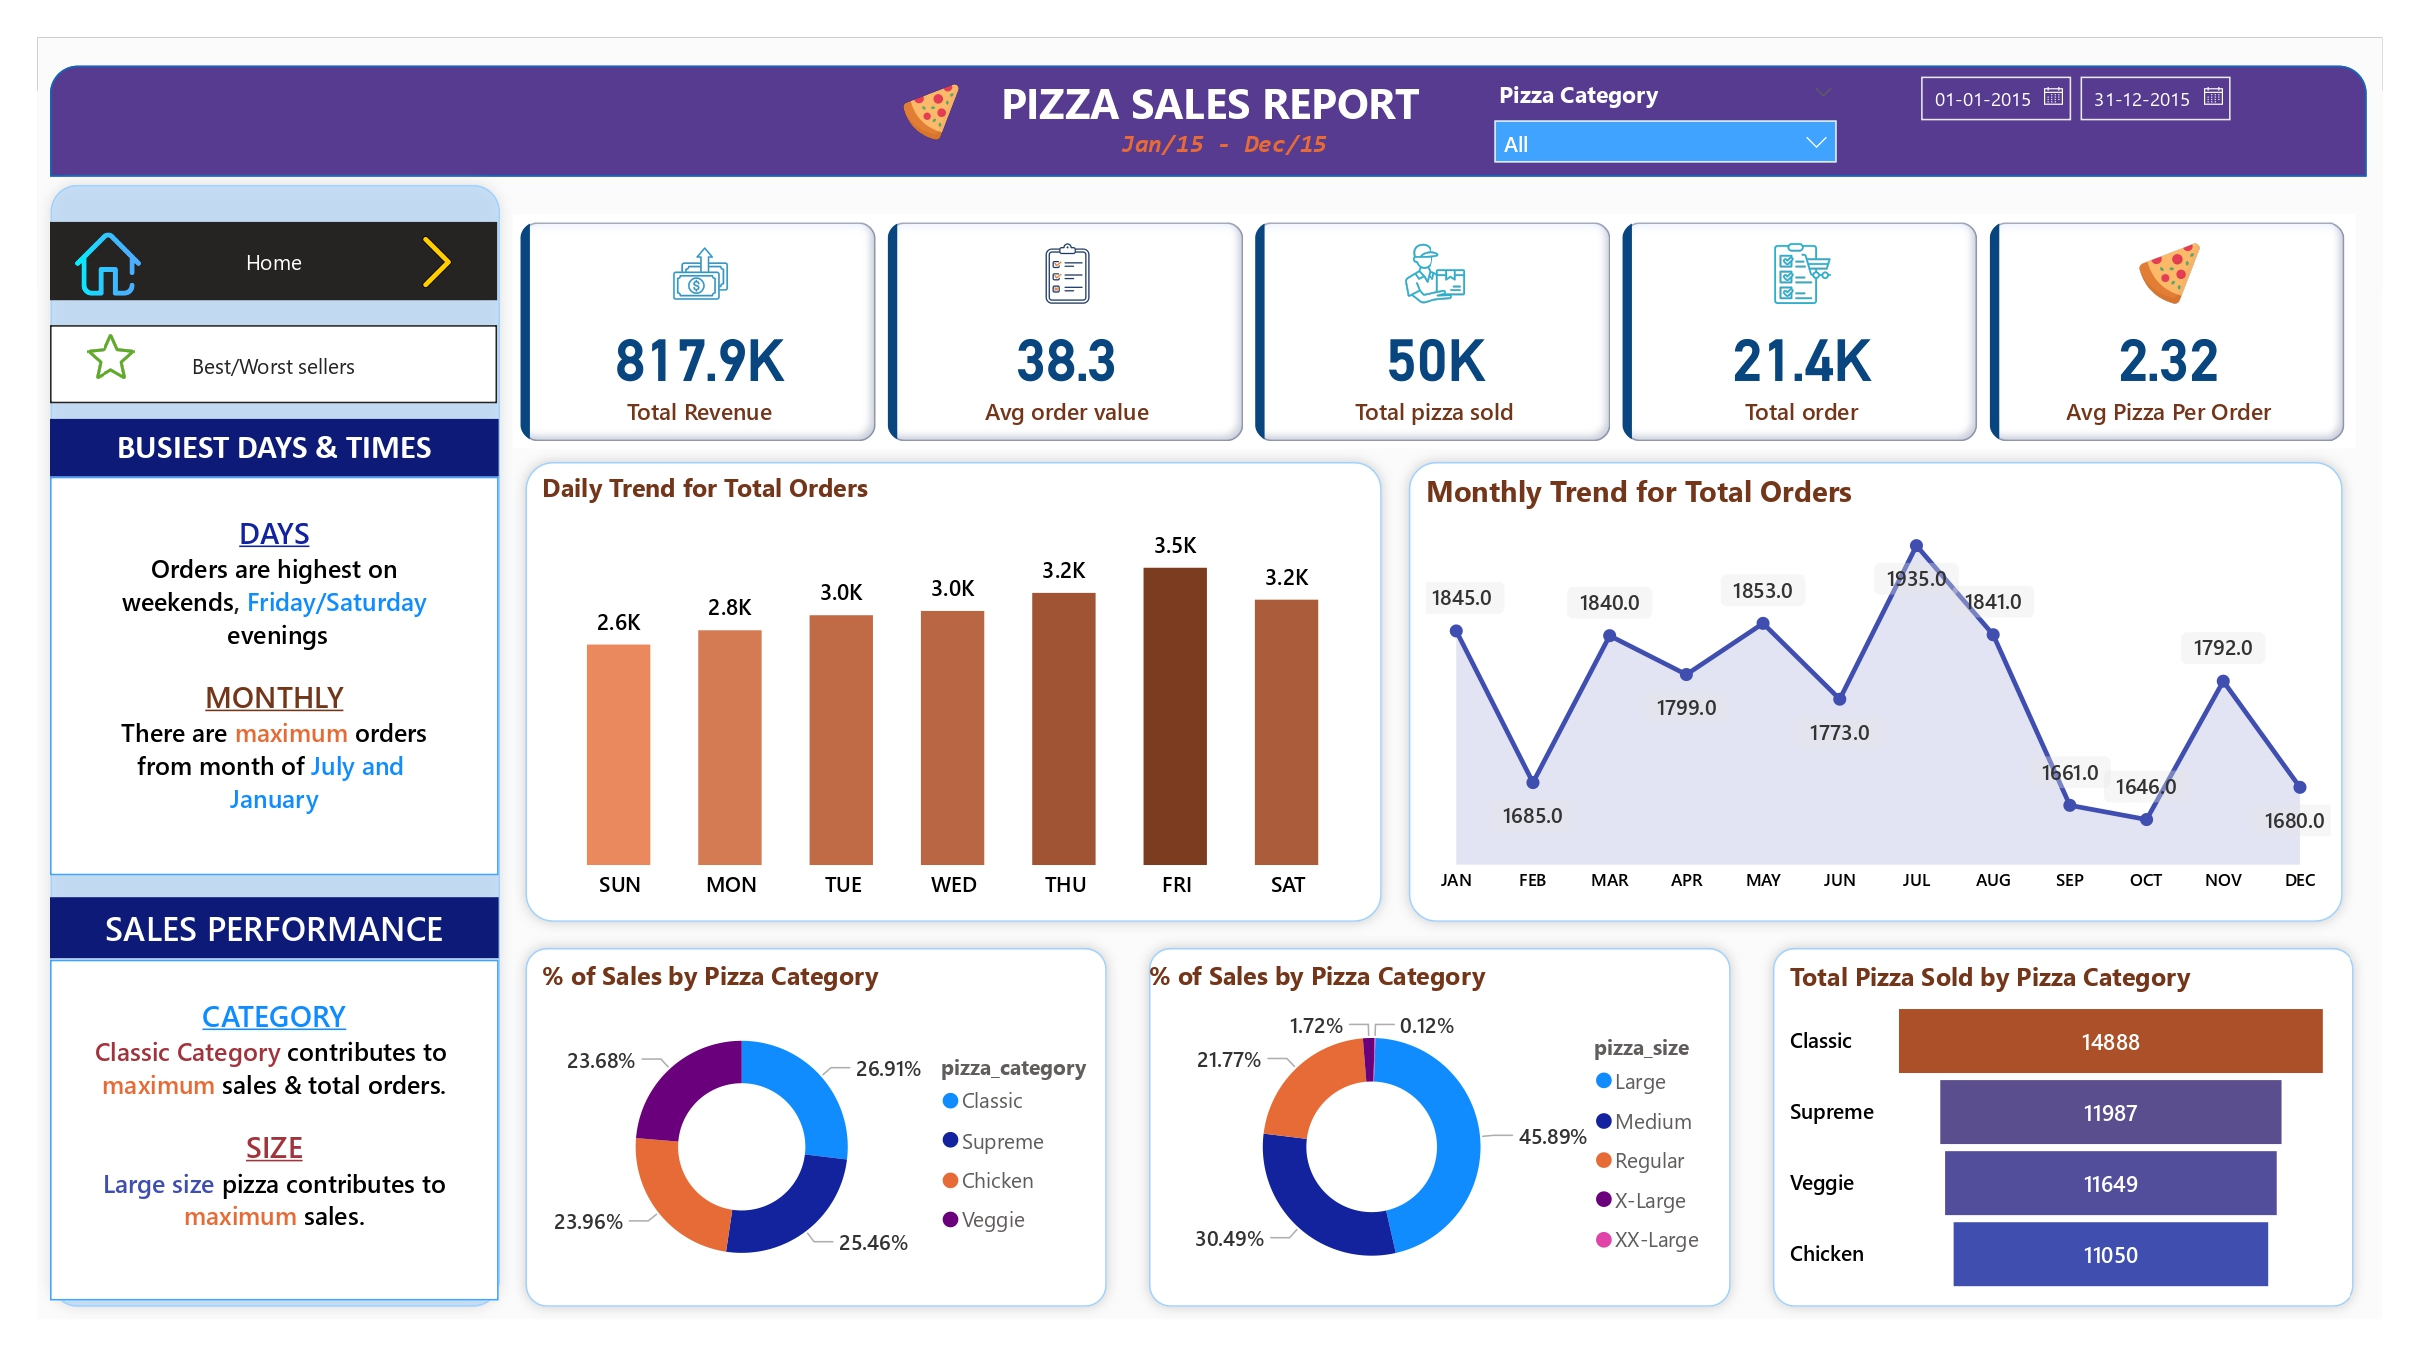

This screenshot's page, from the dashboard's own definition file:
{"tool":"powerbi","page":{"name":"Home","canvas":[1500,820],"ordinal":0},"visuals":[{"type":"cardVisual","fields":{"Data":["pizza_sales pizza_sale.Total Revenue","pizza_sales pizza_sale.Avg order value","pizza_sales pizza_sale.Total pizza sold","pizza_sales pizza_sale.Total order","pizza_sales pizza_sale.Avg Pizza Per Order"]},"box":[304.3,112.9,1178.6,150],"z":0},{"type":"shape","box":[8.4,18.1,1481.8,71],"z":1000},{"type":"textbox","box":[605.8,18.1,288.3,52.9],"z":2000},{"type":"textbox","box":[661.5,52.9,195,34.8],"z":3000},{"type":"image","box":[536.2,23.7,69.6,47.4],"z":4000},{"type":"shape","box":[303.6,263.2,564,310.6],"z":5000},{"type":"columnChart","title":"Daily Trend for Total Orders","fields":{"Category":["pizza_sales pizza_sale.Order Day"],"Y":["pizza_sales pizza_sale.Total order"]},"box":[317.5,277.1,537.6,284.1],"z":6000},{"type":"shape","box":[869,263.2,614.2,310.6],"z":7000},{"type":"areaChart","title":"Monthly Trend for Total Orders","fields":{"Category":["pizza_sales pizza_sale.Order Month"],"Y":["pizza_sales pizza_sale.Total order"]},"box":[883,277.1,589.1,278.5],"z":8000},{"type":"shape","box":[303.6,573.8,388,246.5],"z":9000},{"type":"shape","box":[1101.6,573.8,388,246.5],"z":10000},{"type":"shape","box":[702.6,573.8,388,246.5],"z":11000},{"type":"donutChart","title":"% of Sales by Pizza Category","fields":{"Category":["pizza_sales pizza_sale.pizza_category"],"Y":["pizza_sales pizza_sale.Total Revenue"]},"box":[317.5,589.1,374.6,218.6],"z":12000},{"type":"donutChart","title":"% of Sales by Pizza Category","fields":{"Y":["pizza_sales pizza_sale.Total Revenue"],"Category":["pizza_sales pizza_sale.pizza_size"]},"box":[706.1,589.1,374.6,218.6],"z":13000},{"type":"funnel","title":"Total Pizza Sold by Pizza Category","fields":{"Category":["pizza_sales pizza_sale.pizza_category"],"Y":["pizza_sales pizza_sale.Total pizza sold"]},"box":[1115.5,590.5,356.5,217.3],"z":14000},{"type":"shape","box":[0,86.3,303.6,733.9],"z":15000},{"type":"textbox","box":[8.4,243.7,286.9,37.6],"z":16000},{"type":"textbox","box":[8.4,281.3,286.9,254.9],"z":17000},{"type":"textbox","box":[8.4,550.1,286.9,39],"z":18000},{"type":"textbox","box":[8.4,590.5,286.9,217.3],"z":19000},{"type":"slicer","fields":{"Values":["pizza_sales pizza_sale.pizza_category"]},"box":[921.9,20.9,239.5,65.5],"z":20000},{"type":"slicer","fields":{"Values":["pizza_sales pizza_sale.order_date"]},"box":[1192.1,15.3,239.5,71],"z":21000},{"type":"pageNavigator","box":[8.4,118.4,286.9,50.1],"z":22000},{"type":"pageNavigator","box":[8.4,183.8,286.9,50.1],"z":23000},{"type":"image","box":[234,117,43.2,52.9],"z":24000},{"type":"image","box":[26.5,183.8,40.4,40.4],"z":25000},{"type":"image","box":[19.5,118.4,51.5,52.9],"z":26000}]}

Visuals, with their boxes on the page's 1500x820 design canvas (x1, y1, x2, y2). These are canvas units, not pixel positions in the 2420x1357 screenshot, which may show the page scaled, cropped or inside an application window:
cardVisual - pizza_sales pizza_sale.Total Revenue x pizza_sales pizza_sale.Avg order value: (304, 113, 1483, 263)
shape: (8, 18, 1490, 89)
textbox: (606, 18, 894, 71)
textbox: (662, 53, 856, 88)
image: (536, 24, 606, 71)
shape: (304, 263, 868, 574)
"Daily Trend for Total Orders" columnChart: (318, 277, 855, 561)
shape: (869, 263, 1483, 574)
"Monthly Trend for Total Orders" areaChart: (883, 277, 1472, 556)
shape: (304, 574, 692, 820)
shape: (1102, 574, 1490, 820)
shape: (703, 574, 1091, 820)
"% of Sales by Pizza Category" donutChart: (318, 589, 692, 808)
"% of Sales by Pizza Category" donutChart: (706, 589, 1081, 808)
"Total Pizza Sold by Pizza Category" funnel: (1116, 590, 1472, 808)
shape: (0, 86, 304, 820)
textbox: (8, 244, 295, 281)
textbox: (8, 281, 295, 536)
textbox: (8, 550, 295, 589)
textbox: (8, 590, 295, 808)
slicer - pizza_sales pizza_sale.pizza_category: (922, 21, 1161, 86)
slicer - pizza_sales pizza_sale.order_date: (1192, 15, 1432, 86)
pageNavigator: (8, 118, 295, 168)
pageNavigator: (8, 184, 295, 234)
image: (234, 117, 277, 170)
image: (26, 184, 67, 224)
image: (20, 118, 71, 171)
